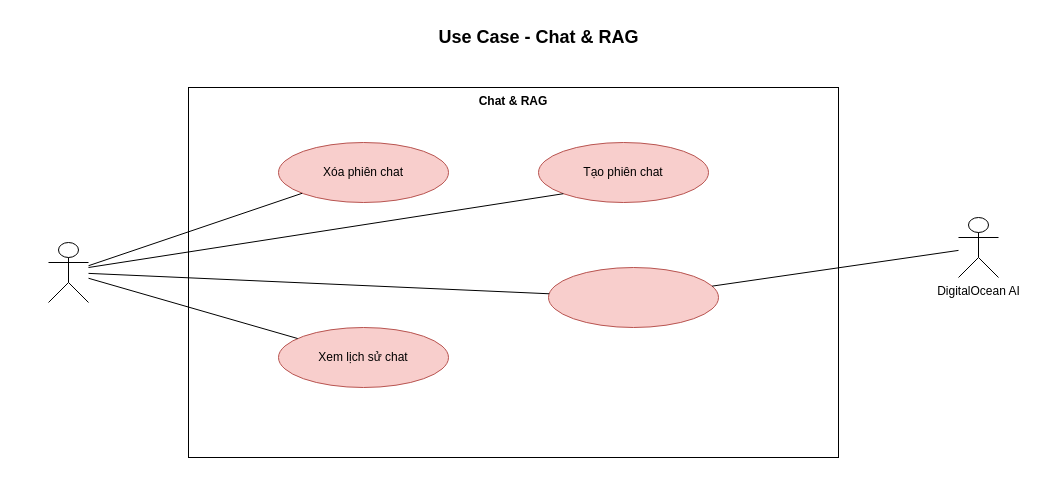
Some shapes in this 1037 by 483 pixel diagram are drawn without their labels. The box of each missing label's shape, as (x1, y1, x2, y2) in pixels:
Authenticated User: (48, 242, 88, 302)
Chat RAG: (548, 266, 718, 328)
